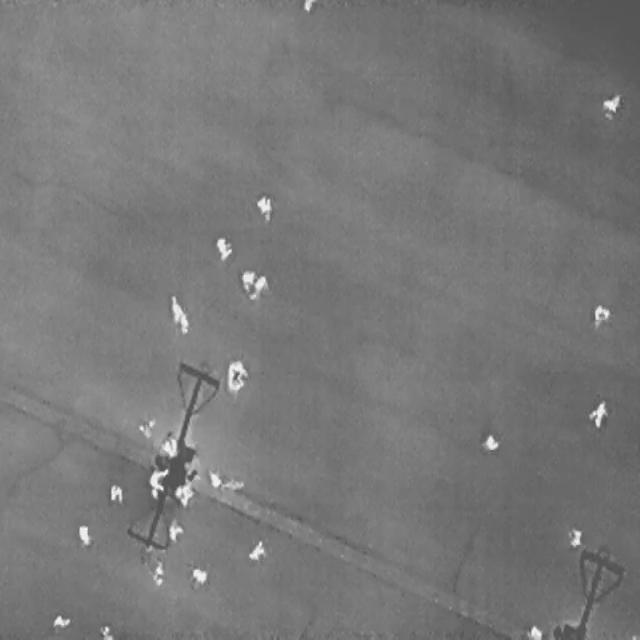Person: (164, 290, 191, 336), (245, 268, 271, 304), (586, 394, 611, 430), (227, 357, 246, 392), (245, 536, 268, 564), (213, 231, 233, 261), (171, 482, 195, 506), (148, 468, 167, 498), (254, 195, 272, 223), (593, 300, 609, 331), (603, 92, 620, 119), (566, 524, 583, 550), (159, 431, 177, 455), (189, 564, 208, 584), (481, 430, 498, 452), (76, 523, 91, 545), (151, 563, 165, 585), (50, 614, 72, 628), (135, 419, 153, 436), (167, 522, 182, 542), (241, 268, 253, 292), (108, 484, 122, 504), (207, 470, 221, 488), (526, 625, 541, 637), (99, 625, 113, 637), (302, 0, 312, 12)
